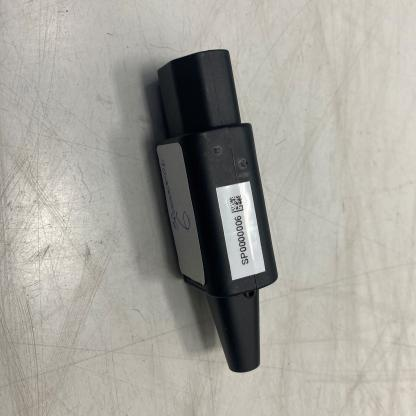SP0000006: (70, 13, 324, 395)
